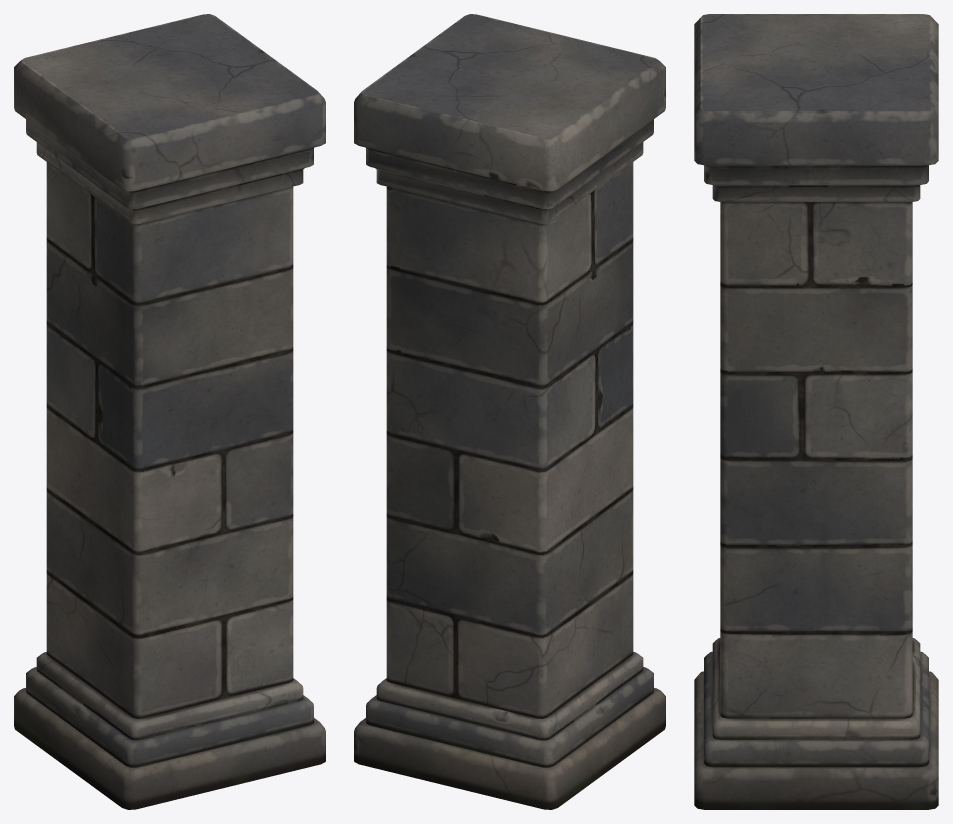
File: pillar.glb
3 renders of one model, left to right at view 1: azimuth 30°, elevation 25°; view 2: azimuth 150°, elevation 25°; view 3: azimuth 270°, elevation 25°, orthographic. The views are drawn at different scales.
Parts seen in each view (by area): view 1: pillar; view 2: pillar; view 3: pillar.
Part boxes in pixels (box(x1,y1,x2,y2)): pillar: box(14, 14, 325, 809); pillar: box(354, 14, 665, 809); pillar: box(694, 14, 938, 809).
Size of the model in its own units: 1.4 by 4.4 by 1.4.
1 material, 1 textured.
